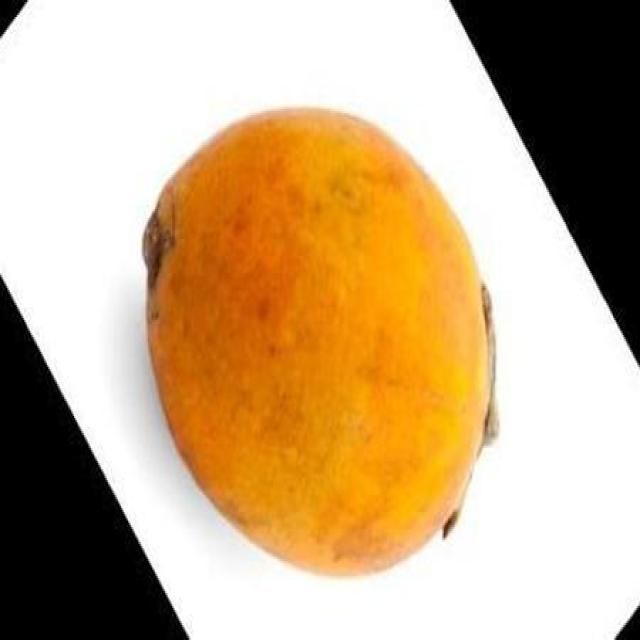good: (141, 107, 495, 582)
